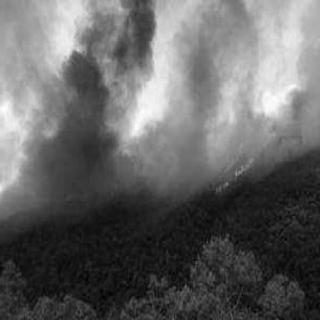Fire: (230, 150, 254, 178)
Smoke: (162, 41, 220, 185), (3, 3, 51, 63), (119, 4, 158, 58)
